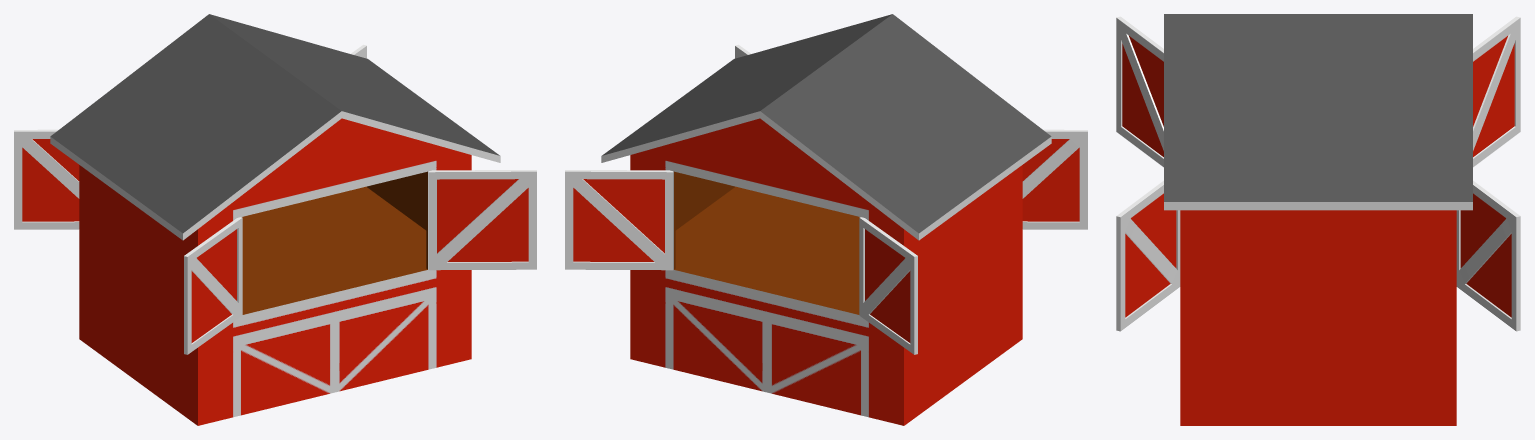
File: Barn.fbx
The picture shows the model from 3 angles, left to right: view 1: azimuth 30°, elevation 25°; view 2: azimuth 150°, elevation 25°; view 3: azimuth 270°, elevation 25°; orthographic projection. The views are drawn at different scales.
Parts seen in each view (by area): view 1: Barn, Doors; view 2: Barn, Doors; view 3: Barn, Doors.
Boxes of the visible parts, left/top/right/bottom form: Barn: left=50, top=14, right=500, bottom=425; Doors: left=14, top=44, right=536, bottom=354; Barn: left=601, top=14, right=1051, bottom=425; Doors: left=565, top=44, right=1087, bottom=354; Barn: left=1164, top=14, right=1472, bottom=425; Doors: left=1116, top=16, right=1520, bottom=331.
Bounding box in the file's own units: 2578 × 2000 × 2195.
Materials: 1 (1 with a texture image).
